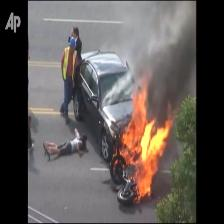fire: (111, 76, 172, 203)
